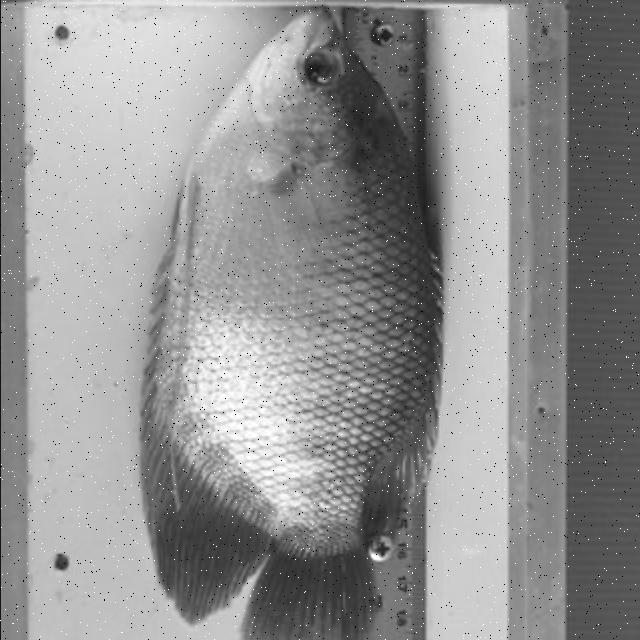Mulut: (240, 0, 370, 82)
Sirip Anal: (118, 370, 286, 640)
Sirip Dada: (230, 136, 346, 327)
Sirip Ekor: (238, 526, 410, 640)
Sirip Punggung: (340, 240, 464, 560)
